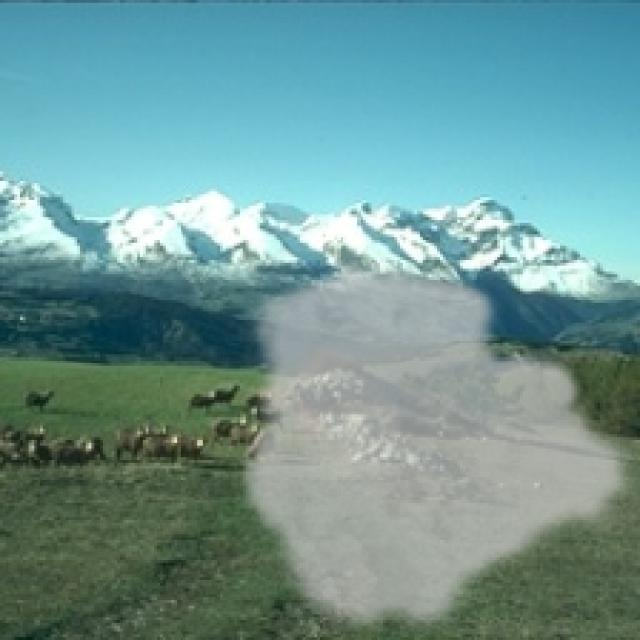Smoke: (237, 260, 637, 637)
